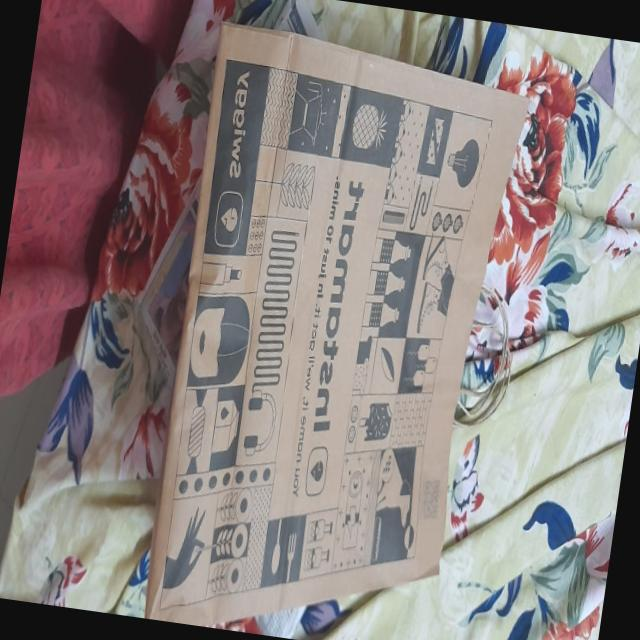Paper_Bag - Recyclable: (139, 18, 536, 640)
